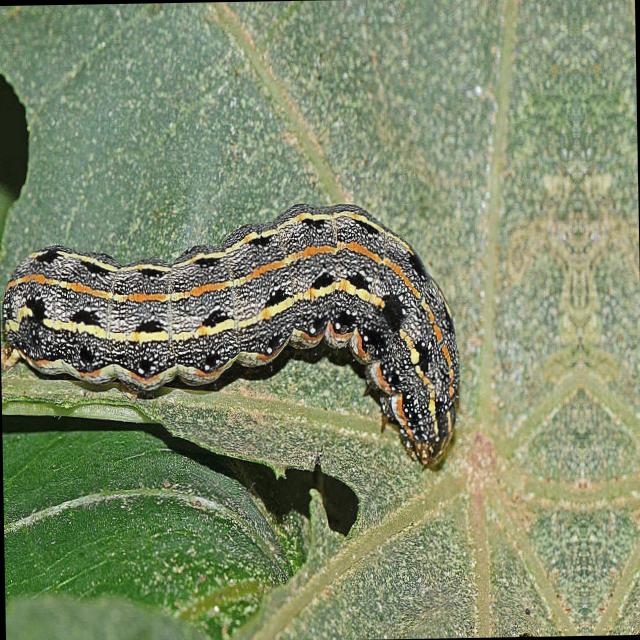Armyworm: (1, 191, 460, 499)
